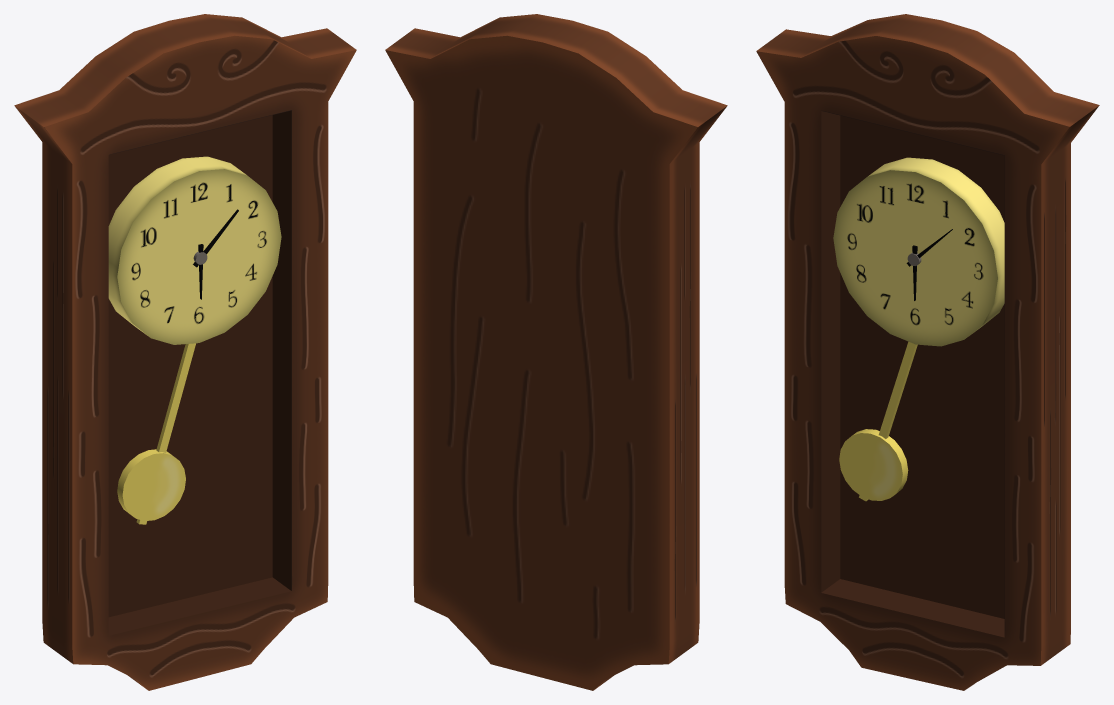
The model's file is Klok.fbx.
The picture shows the model from 3 angles, left to right: view 1: azimuth 30°, elevation 25°; view 2: azimuth 150°, elevation 25°; view 3: azimuth 330°, elevation 25°; orthographic projection.
Visible parts, largest first — view 1: pCube9, pCylinder7; view 2: pCube9; view 3: pCube9, pCylinder7.
Boxes of the visible parts, x1,y1,x2,y2 form: pCube9: [14, 14, 356, 690]; pCylinder7: [117, 343, 195, 524]; pCube9: [385, 14, 727, 690]; pCube9: [756, 14, 1099, 690]; pCylinder7: [839, 341, 917, 501].
Bounding box in the file's own units: 3.81 × 7.4 × 0.6382.
1 material, 1 textured.
